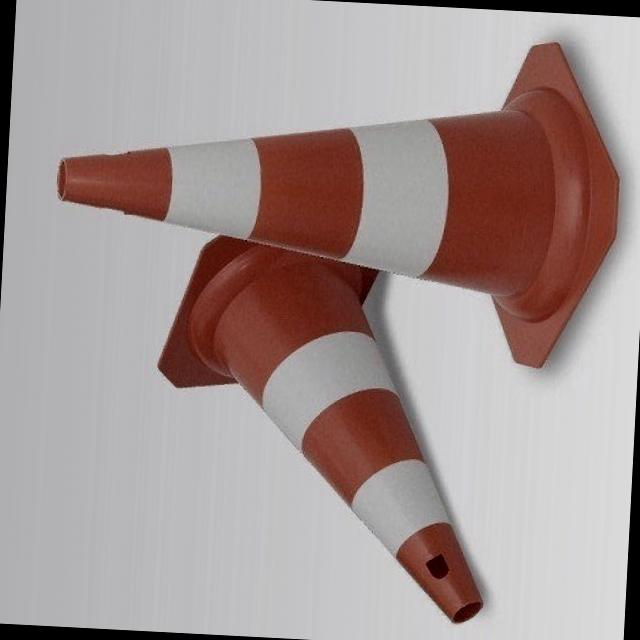cone: (46, 21, 618, 348), (137, 241, 505, 640)
